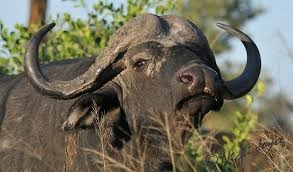buffalo: (0, 11, 262, 169)
